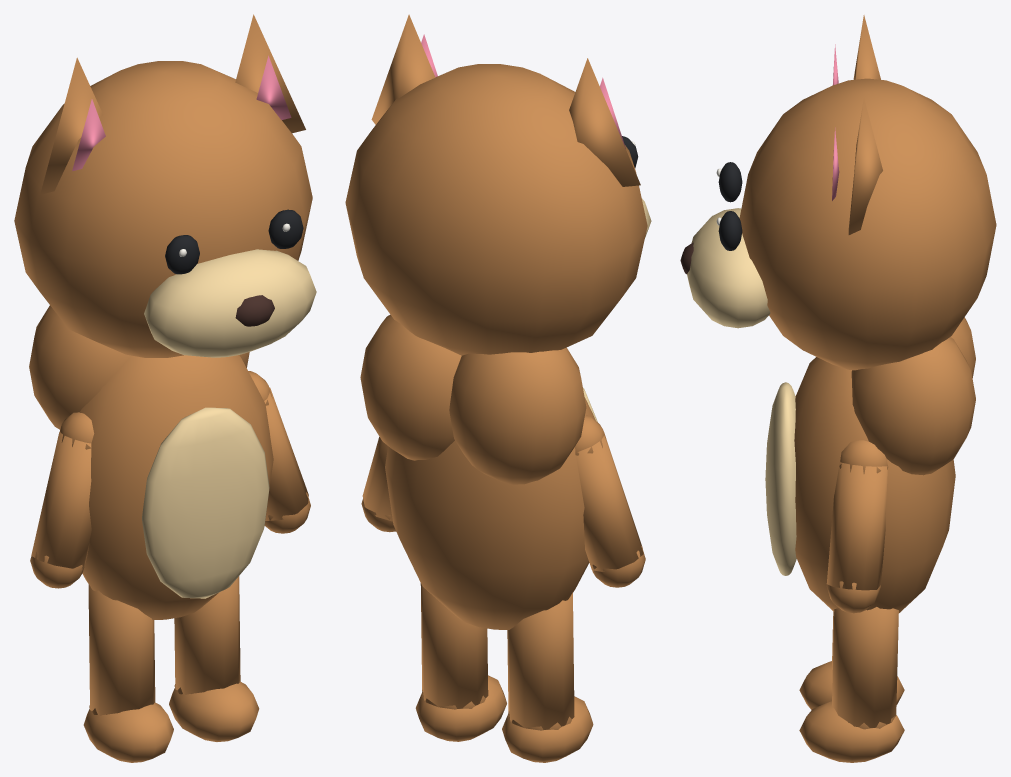
The model's file is bactrian-camel.glb.
3 renders of one model, left to right at view 1: azimuth 30°, elevation 25°; view 2: azimuth 150°, elevation 25°; view 3: azimuth 270°, elevation 25°, orthographic. The views are drawn at different scales.
Visible parts, largest first — view 1: Asset.bactrian-camel; view 2: Asset.bactrian-camel; view 3: Asset.bactrian-camel.
Part boxes in pixels (bbox=[...]): Asset.bactrian-camel: bbox=[14, 14, 316, 762]; Asset.bactrian-camel: bbox=[345, 14, 651, 762]; Asset.bactrian-camel: bbox=[680, 15, 996, 762].
Size of the model in its own units: 1.8 by 4.43 by 1.86.
